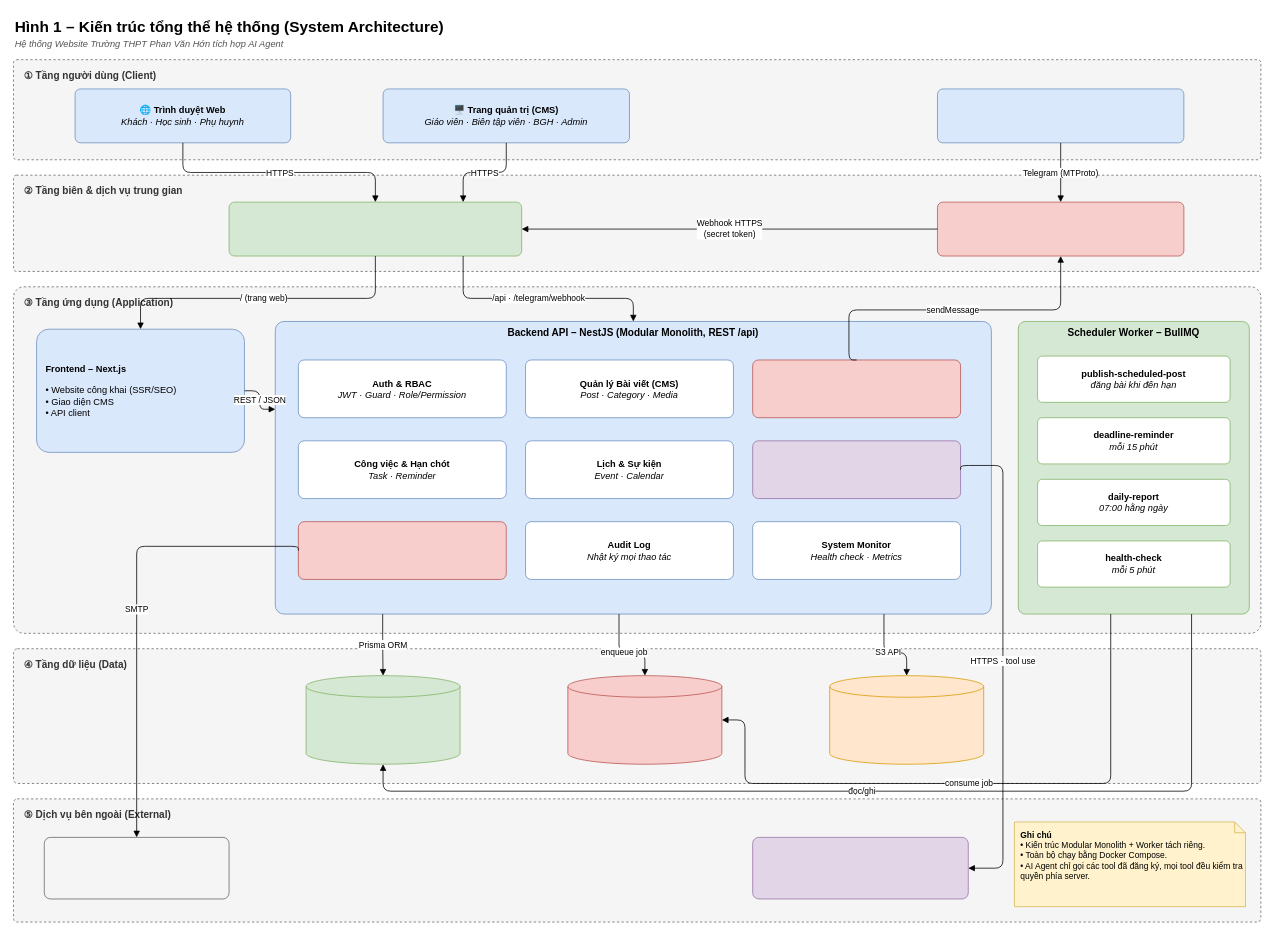
Some shapes in this 1274 by 936 pixel diagram are drawn without their labels. The centre of each missing label's shape, as x and y in pixels:
"AI Agent Service Tool Registry · LLM Client" goes at pixel 856 469.
"Email SMTP Gửi mail thông báo" goes at pixel 136 868.
"LLM API (Claude) Tool use / Function calling" goes at pixel 860 868.
"Nginx Reverse Proxy HTTPS · SSL Let's Encrypt · Rate limit" goes at pixel 375 228.
"Object Storage (MinIO) Ảnh · Tài liệu" goes at pixel 906 719.
"PostgreSQL 16 Dữ liệu nghiệp vụ" goes at pixel 382 719.
"Redis 7 Queue · Cache · OTP" goes at pixel 644 719.
"Telegram Bot API (Cloud) Webhook · sendMessage · Inline keyboard" goes at pixel 1060 228.
"Telegram Gateway Webhook · sendMessage" goes at pixel 856 388.
"Thông báo Web · Telegram · Email" goes at pixel 402 550.
"📱 Ứng dụng Telegram Điện thoại BGH / Admin / Giáo viên" goes at pixel 1060 115.
